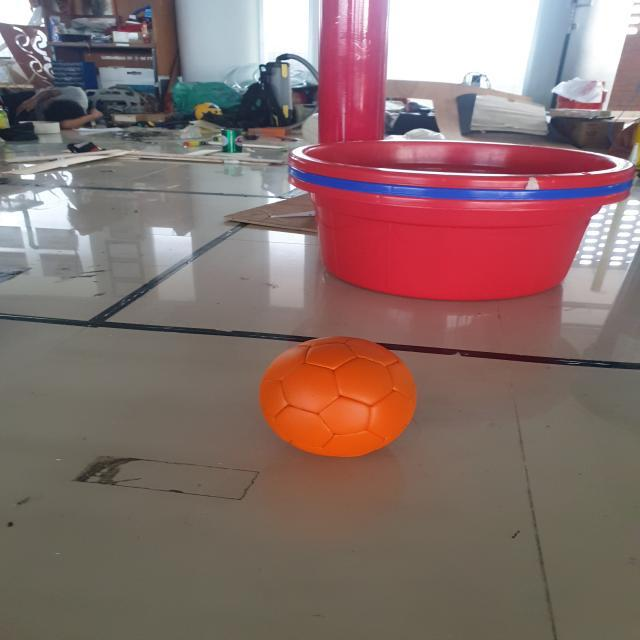bola: (256, 324, 424, 462)
